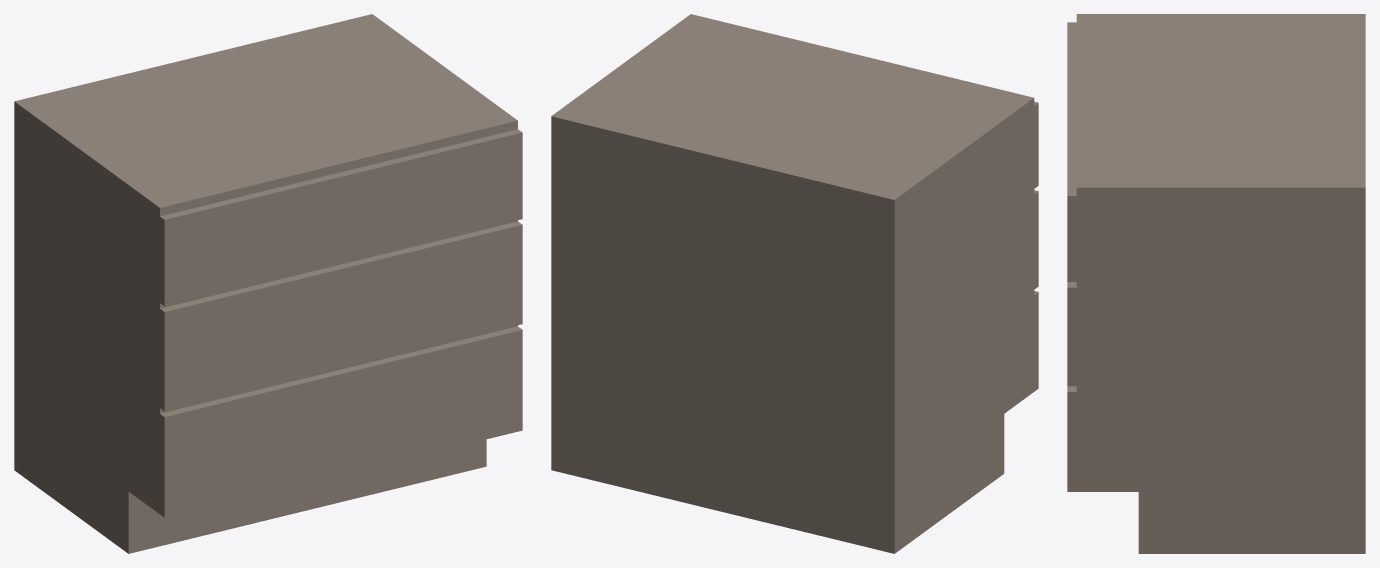
Rendered from Universal-Design-Base-Cabinet-Three-Drawer-24-Deep_std_001_W33i.glb.
3 renders of one model, left to right at view 1: azimuth 30°, elevation 25°; view 2: azimuth 150°, elevation 25°; view 3: azimuth 270°, elevation 25°, orthographic. The views are drawn at different scales.
Parts seen in each view (by area): view 1: Universal-Design-Base-Cabinet-Three-Drawer-24-Deep.std.001_W; view 2: Universal-Design-Base-Cabinet-Three-Drawer-24-Deep.std.001_W; view 3: Universal-Design-Base-Cabinet-Three-Drawer-24-Deep.std.001_W.
Part boxes in pixels (x1=…): Universal-Design-Base-Cabinet-Three-Drawer-24-Deep.std.001_W: x1=14, y1=14, x2=522, y2=553; Universal-Design-Base-Cabinet-Three-Drawer-24-Deep.std.001_W: x1=551, y1=14, x2=1038, y2=553; Universal-Design-Base-Cabinet-Three-Drawer-24-Deep.std.001_W: x1=1067, y1=14, x2=1365, y2=553.
Bounding box in the file's own units: 0.8382 × 0.8255 × 0.6096.
